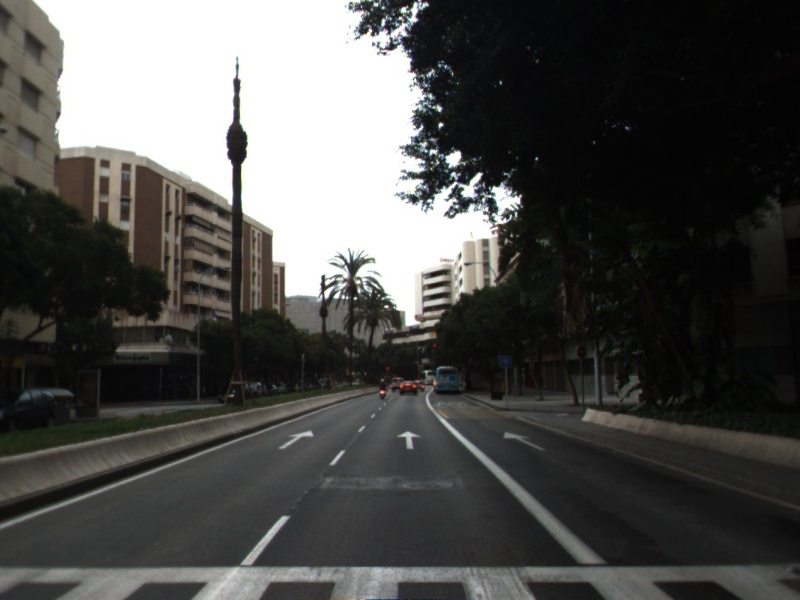STRAIGHT: (501, 429, 550, 453), (276, 428, 316, 452), (395, 429, 424, 451)
